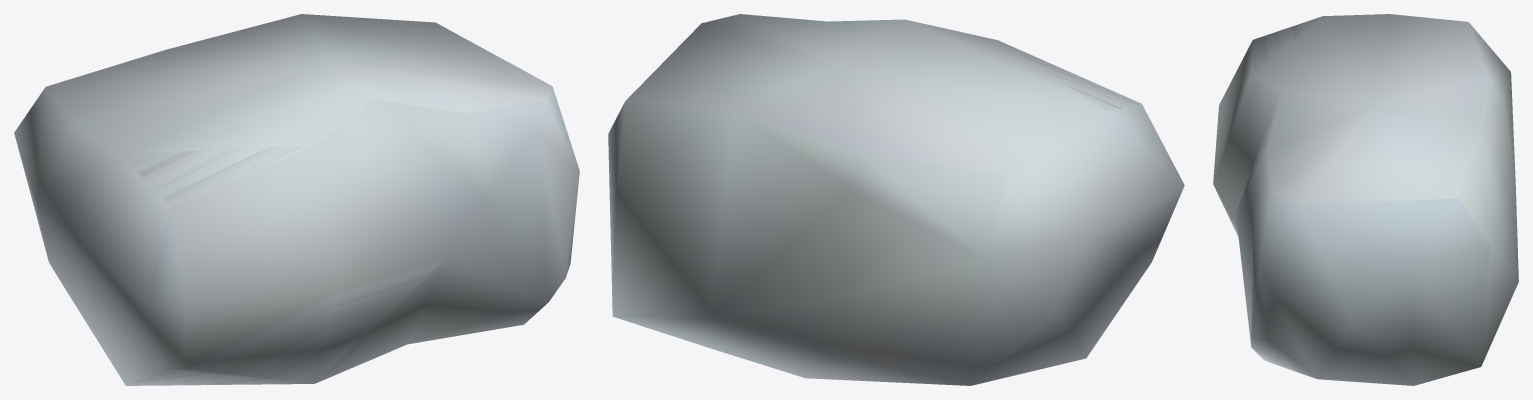
File: P_RockDesert_Rock03.obj
The picture shows the model from 3 angles, left to right: view 1: azimuth 30°, elevation 25°; view 2: azimuth 150°, elevation 25°; view 3: azimuth 270°, elevation 25°; orthographic projection. The views are drawn at different scales.
Size of the model in its own units: 0.8352 by 0.4362 by 0.5577.
